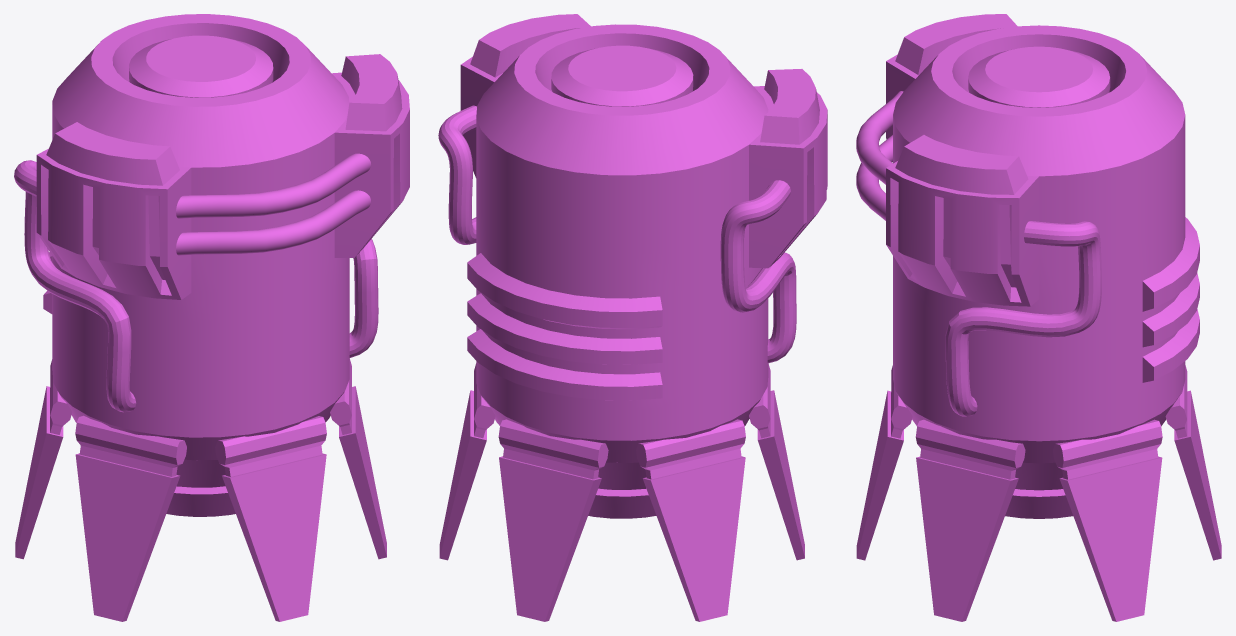
Rendered from Rocket_Engine.fbx.
The picture shows the model from 3 angles, left to right: view 1: azimuth 30°, elevation 25°; view 2: azimuth 150°, elevation 25°; view 3: azimuth 270°, elevation 25°; orthographic projection.
Visible parts, largest first — view 1: Engine; view 2: Engine; view 3: Engine.
Boxes of the visible parts, x1,y1,x2,y2 form: Engine: (14,14,409,621); Engine: (438,14,827,621); Engine: (856,14,1221,621).
Bounding box in the file's own units: 270 × 366 × 250.
